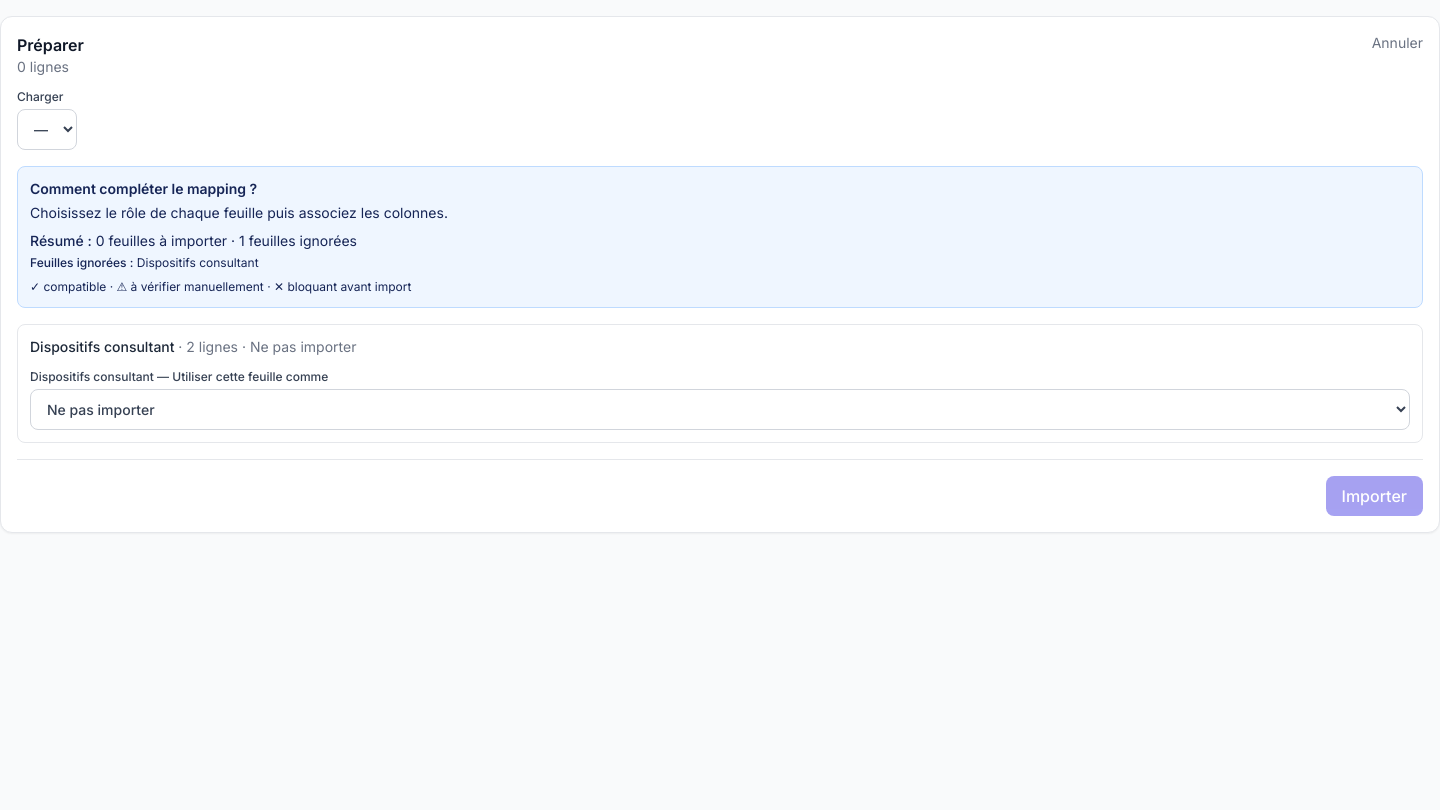
Test: HistoricImportPreview › permet d’affecter une feuille non reconnue aux mesures et de mapper ses colonnes
Check: the text "Résumé : 0 feuilles à importer · 1 feuilles ignorées" is shown, box [30,232,357,249]
Select "Mesures" in the dropdown labelled "Dispositifs consultant — Utiliser cette feuille comme" at [720, 410], box [30,389,1410,430]
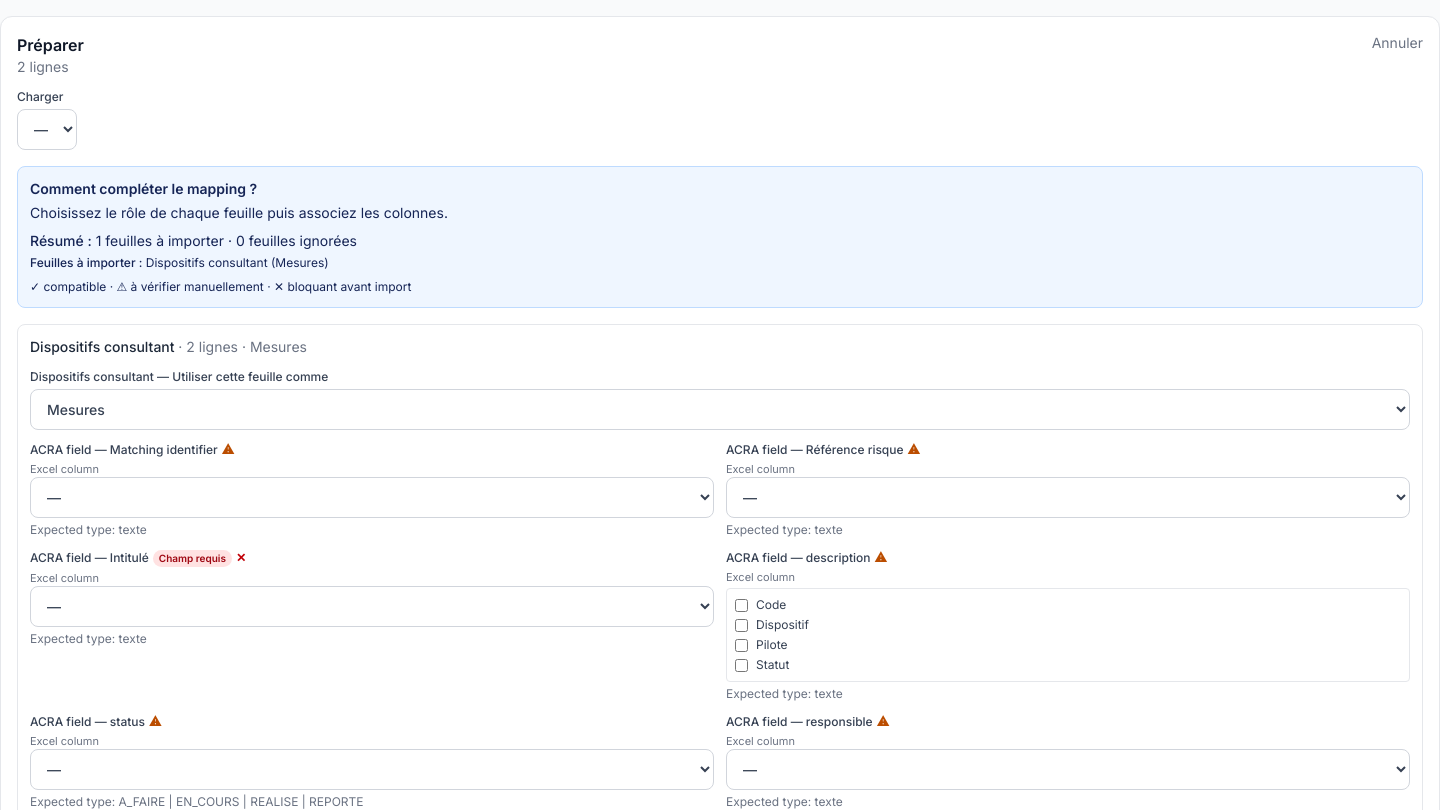
Check: the dropdown named "Dispositifs consultant — Intitulé" is shown, box [30,586,714,627]
